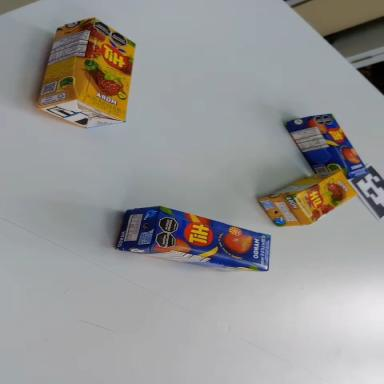HIT-MANGO: (114, 198, 277, 289), (283, 99, 369, 197)
HIT-MORA: (35, 12, 138, 133), (257, 155, 357, 242)
cara_F: (150, 206, 277, 277), (75, 17, 140, 121), (309, 106, 369, 184), (292, 166, 357, 225)
